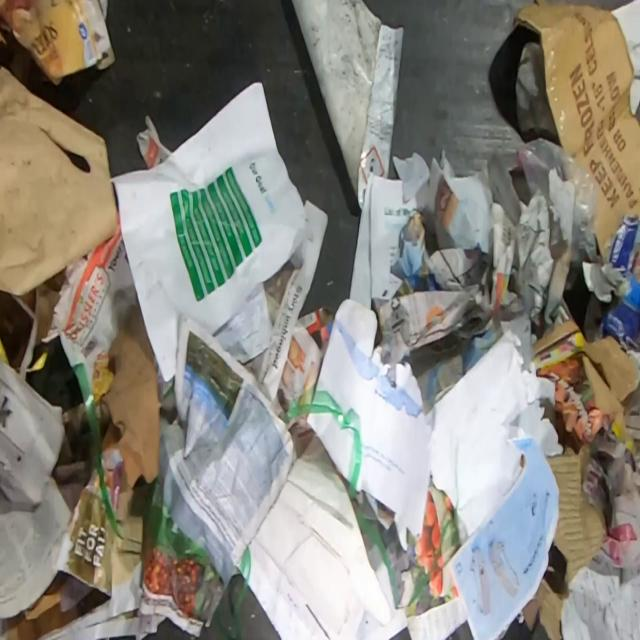cardboard: (514, 0, 640, 258), (522, 444, 608, 640), (533, 317, 640, 444), (0, 0, 116, 87), (0, 573, 80, 640), (298, 305, 334, 353)
soft_plastic: (518, 136, 603, 291), (278, 384, 362, 500), (71, 362, 123, 540), (356, 507, 400, 608), (214, 545, 252, 639)
